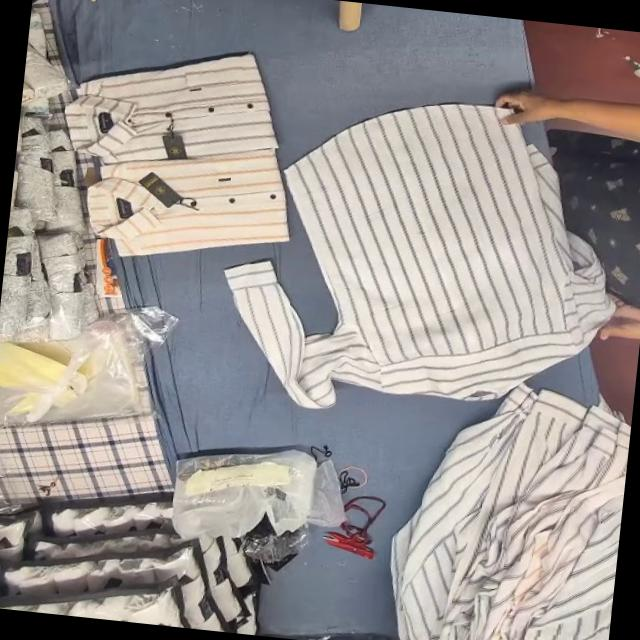new-garment: (226, 105, 611, 408)
